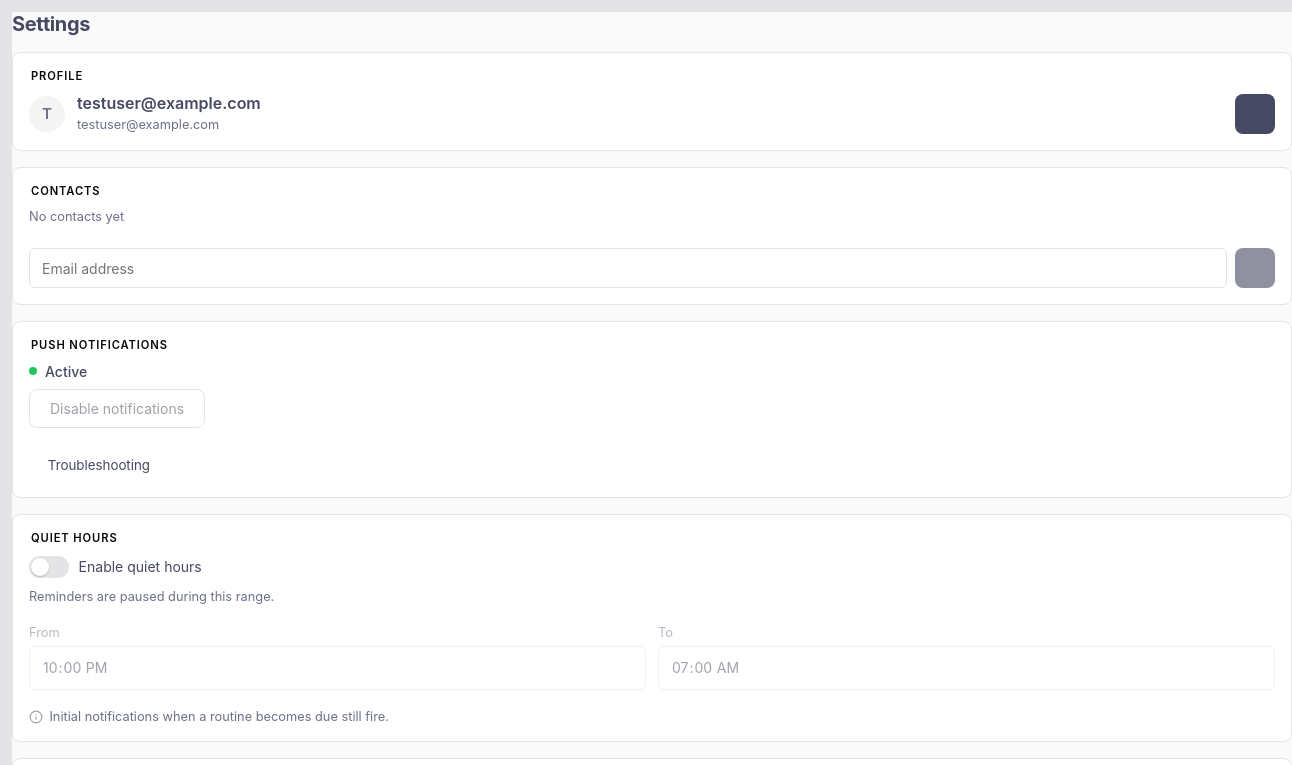
Test: SettingsPage › shows test notification button when subscribed and sends test
Click the button with test id "push-troubleshooting-toggle".
click(99, 465)  # box [29,449,1275,481]
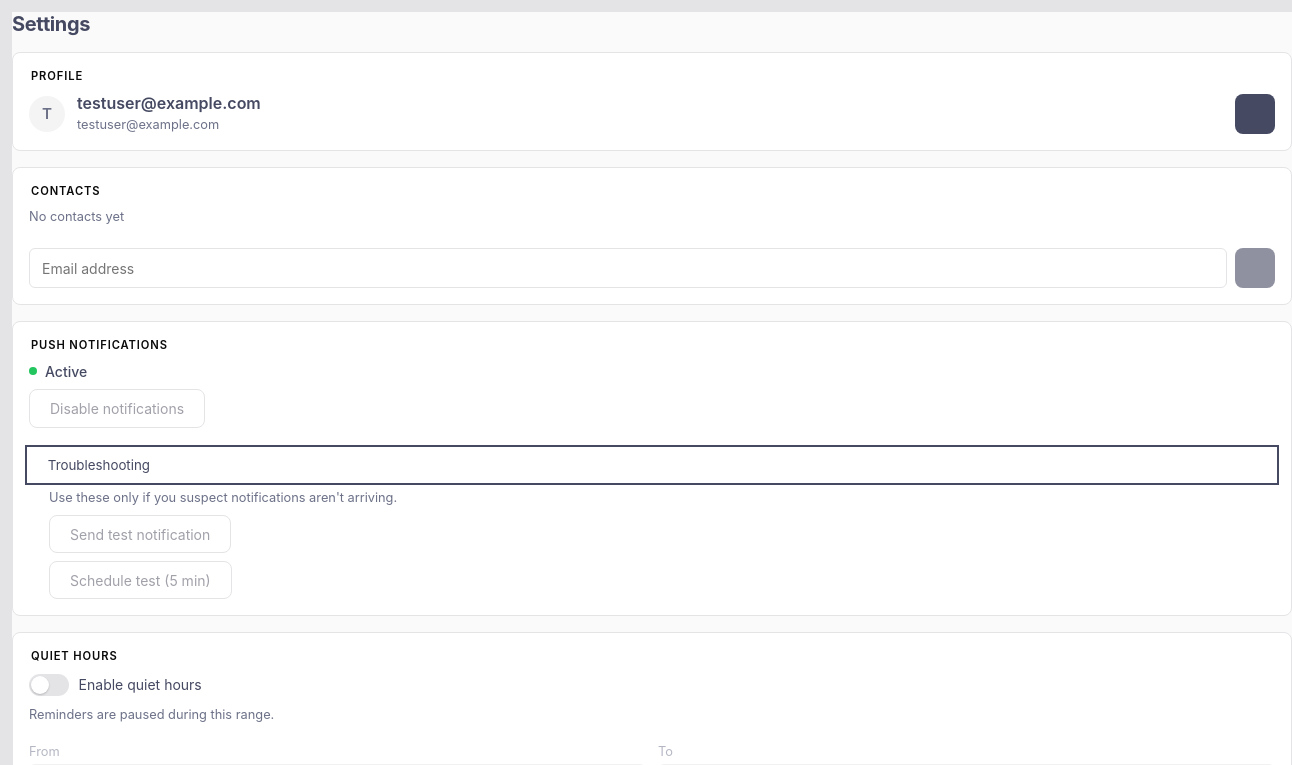
Click the button "Send test notification".
click(140, 534)  # box [49,515,231,553]
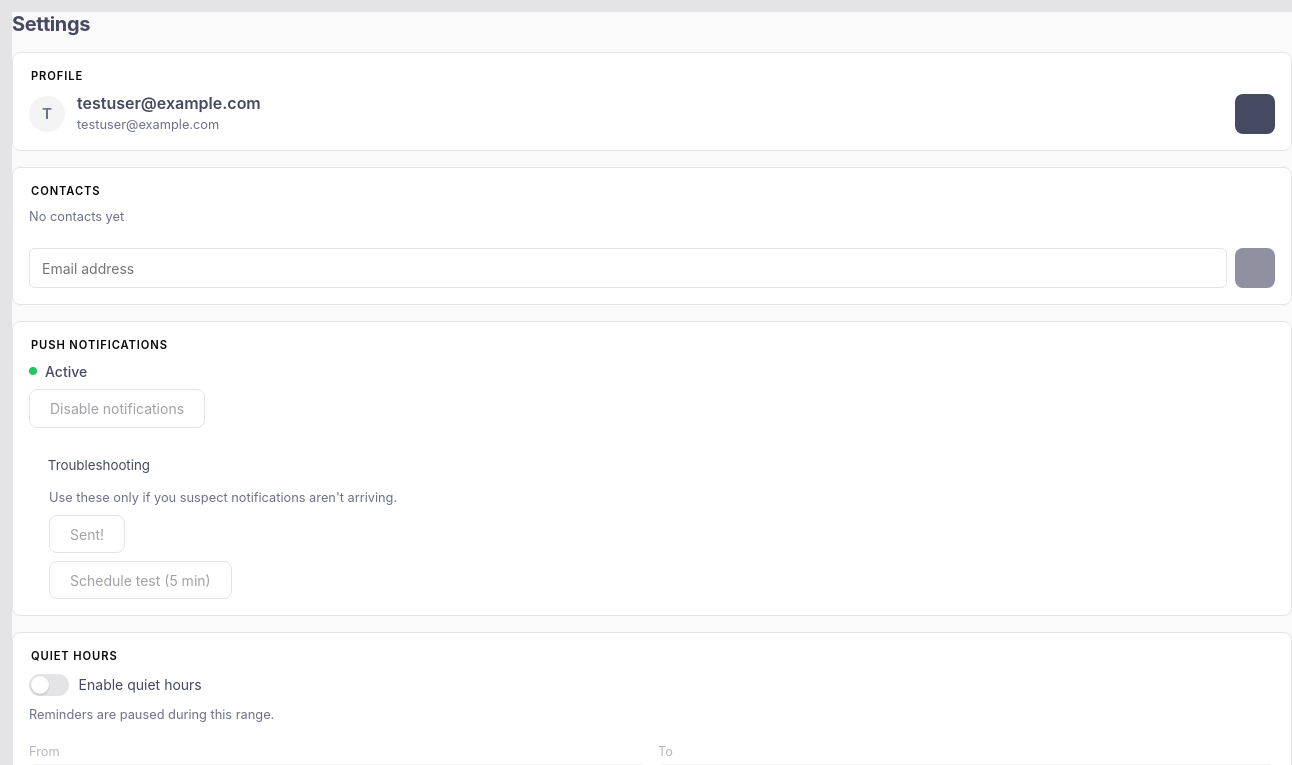
Expected: the button "Sent!" is shown, [49,515,125,553]
